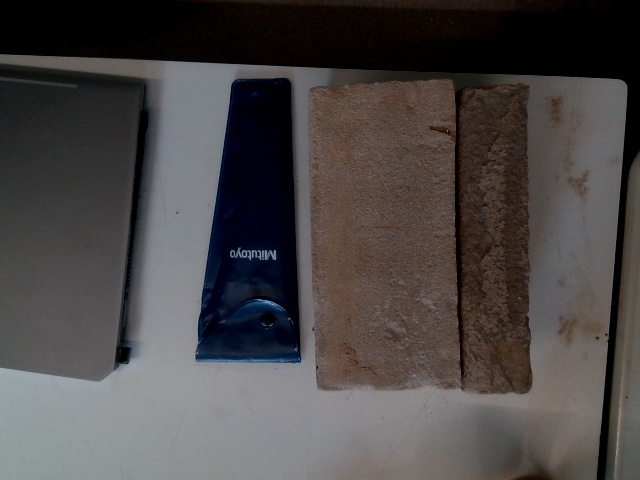brick: (307, 81, 463, 388)
